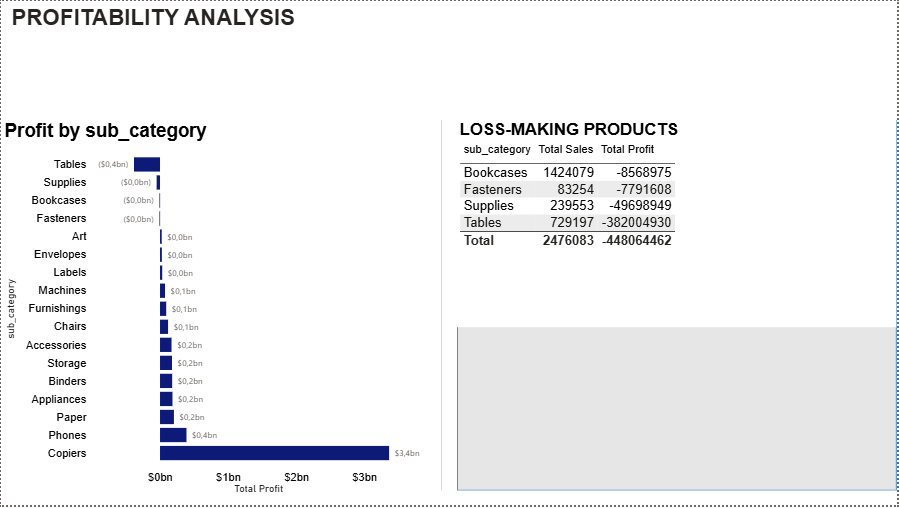

The page's visual inventory and layout, read from the dashboard file:
{"tool":"powerbi","page":{"name":"PROFITABILITY ANALYSIS","canvas":[1280,720],"ordinal":2},"visuals":[{"type":"textbox","box":[10.1,0,426.7,58.8],"z":0},{"type":"shape","box":[0,169.3,629.3,529.3],"z":1000},{"type":"shape","box":[652,169.3,628,529.3],"z":2000},{"type":"barChart","title":"Profit by sub_category","fields":{"Category":["superstore_cleaned.region"],"Y":["superstore_cleaned.Total Sales","superstore_cleaned.Total Profit"]},"box":[0,169.3,629,539.5],"z":3000},{"type":"tableEx","title":"LOSS-MAKING PRODUCTS","fields":{"Values":["superstore_cleaned.sub_category","superstore_cleaned.Total Sales","superstore_cleaned.Total Profit"]},"box":[651,283.5,629,297.3],"z":4000}]}

Visuals, with their boxes in screenshot pixels (x1, y1, x2, y2), scaled from the page's 1280x720 canvas onto the 899x508 screenshot:
textbox: pyautogui.locateOnScreen(7, 0, 307, 41)
shape: pyautogui.locateOnScreen(0, 119, 442, 493)
shape: pyautogui.locateOnScreen(458, 119, 898, 493)
"Profit by sub_category" barChart: pyautogui.locateOnScreen(0, 119, 442, 500)
"LOSS-MAKING PRODUCTS" tableEx: pyautogui.locateOnScreen(457, 200, 898, 410)
